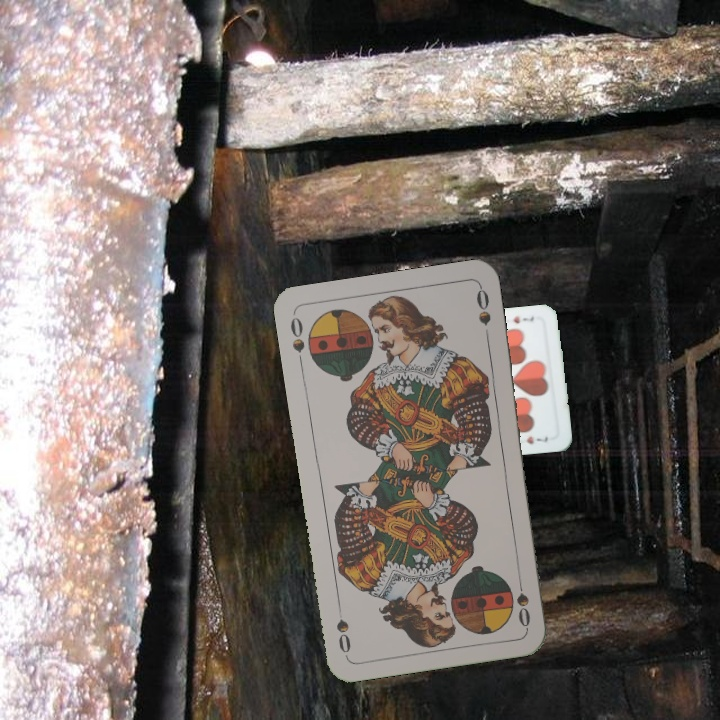H7: (509, 312, 536, 326)
SO: (286, 313, 308, 370), (512, 571, 533, 630)
